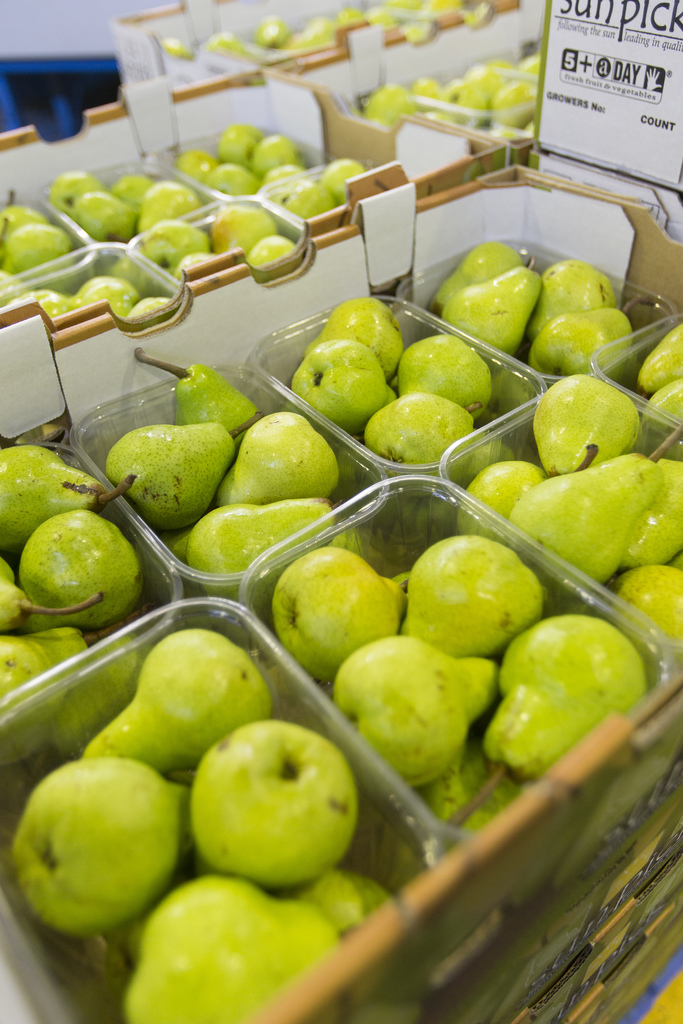Apple: (177, 729, 367, 901)
